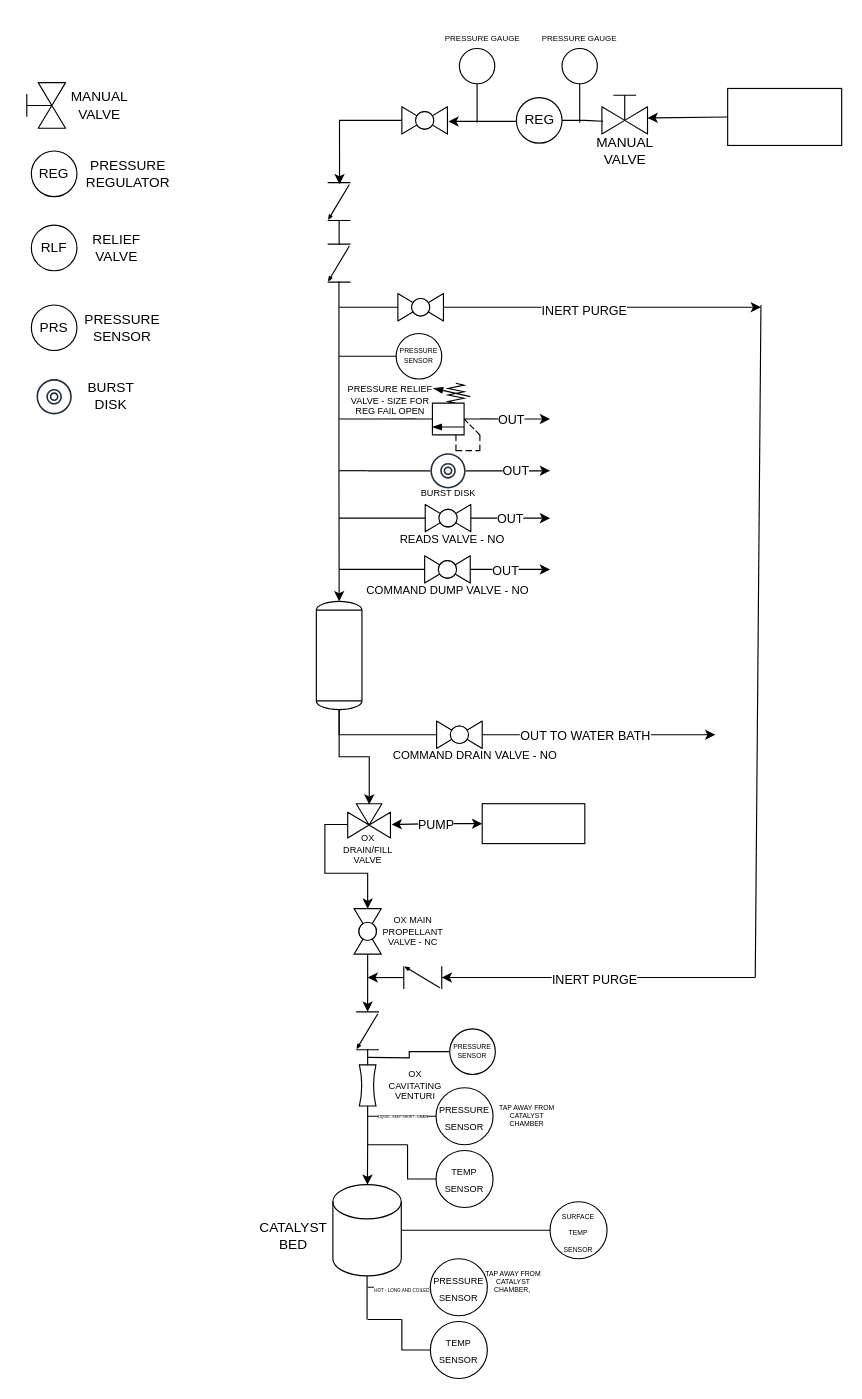
Some shapes in this 862 by 1399 pixel diagram are drawn without their labels. Each missing label, with the centre of its shape:
"OX STORAGE" goes at point 533,823.
"OX TANK" goes at point 338,655.
"SOURCE PRESSURANT TANK" goes at point 784,116.
